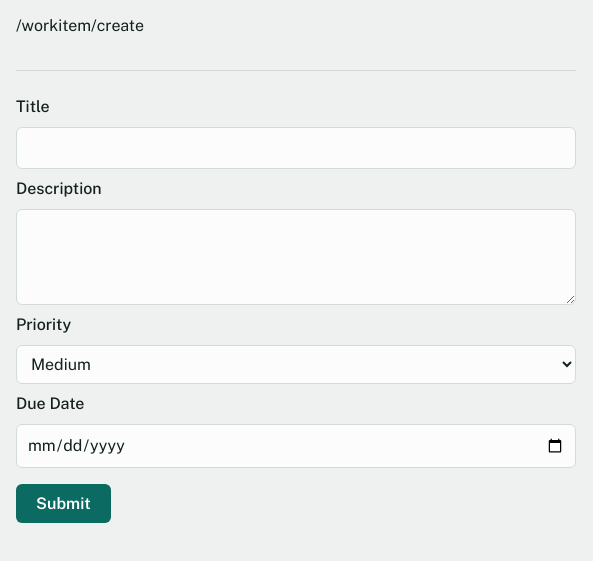
Scenario: keeps the create route and entered fields and displays the HTTP error when POST fails
Type "New support case" into the field labelled "Title" at (296, 148), box [16, 127, 576, 169]
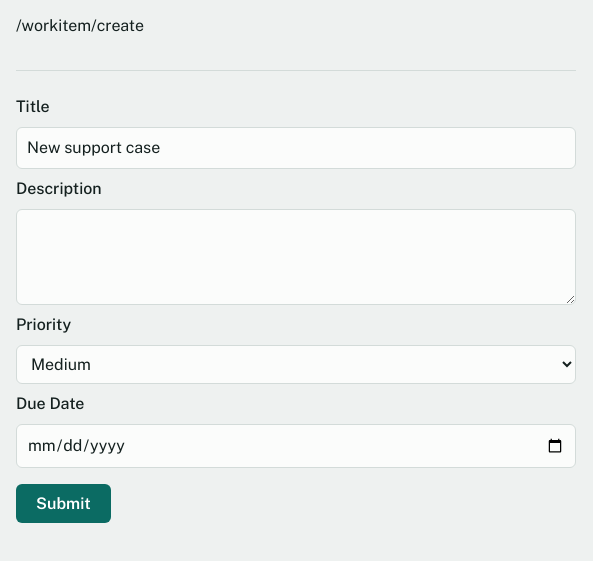
Type "Investigate the issue" into the text box labelled "Description" at (296, 257), box [16, 209, 576, 305]
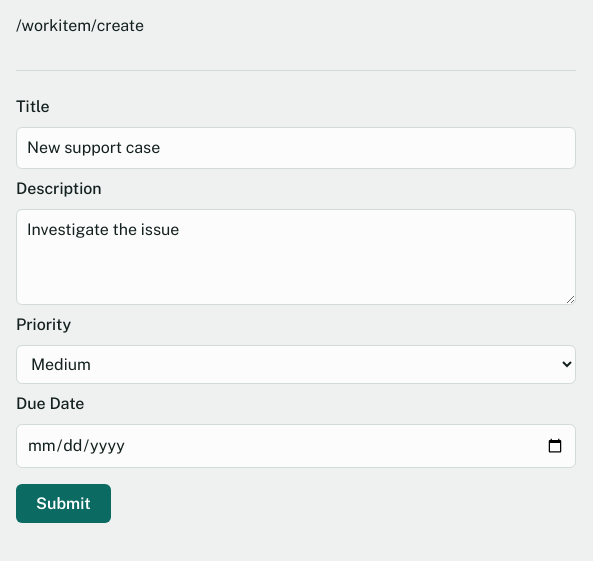
Select "High" in the dropdown labelled "Priority" at (296, 364), box [16, 345, 576, 384]
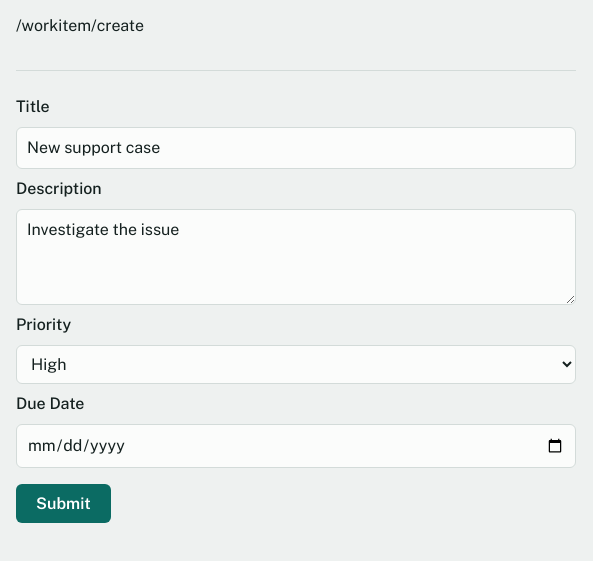
Type "2026-12-01" into the date field labelled "Due Date" at (296, 446), box [16, 424, 576, 468]
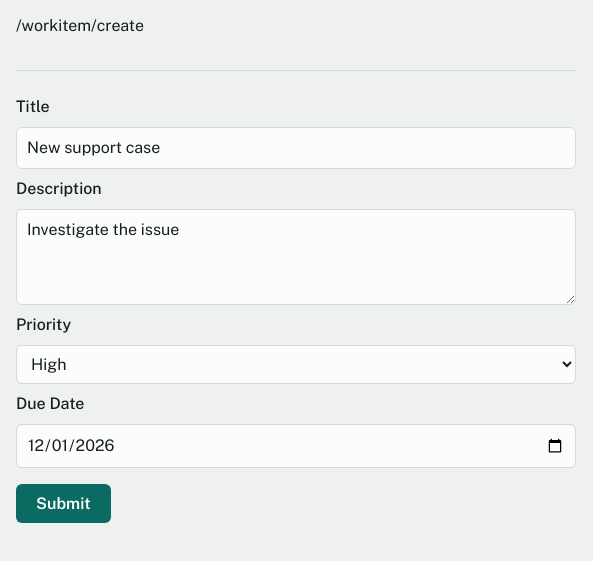
Click the button "Submit" at (63, 504), box [16, 484, 111, 523]
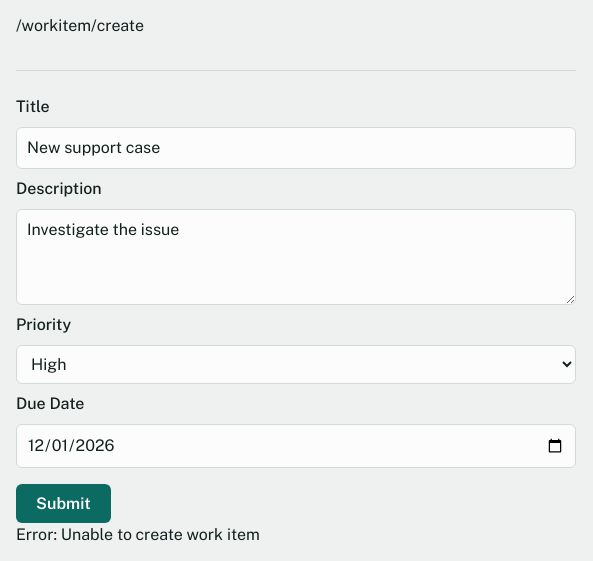
Expected: the text named "Current path" reads "/workitem/create", [16, 16, 144, 35]
Now the message reads "Error: Unable to create work item", box [16, 525, 260, 544]
